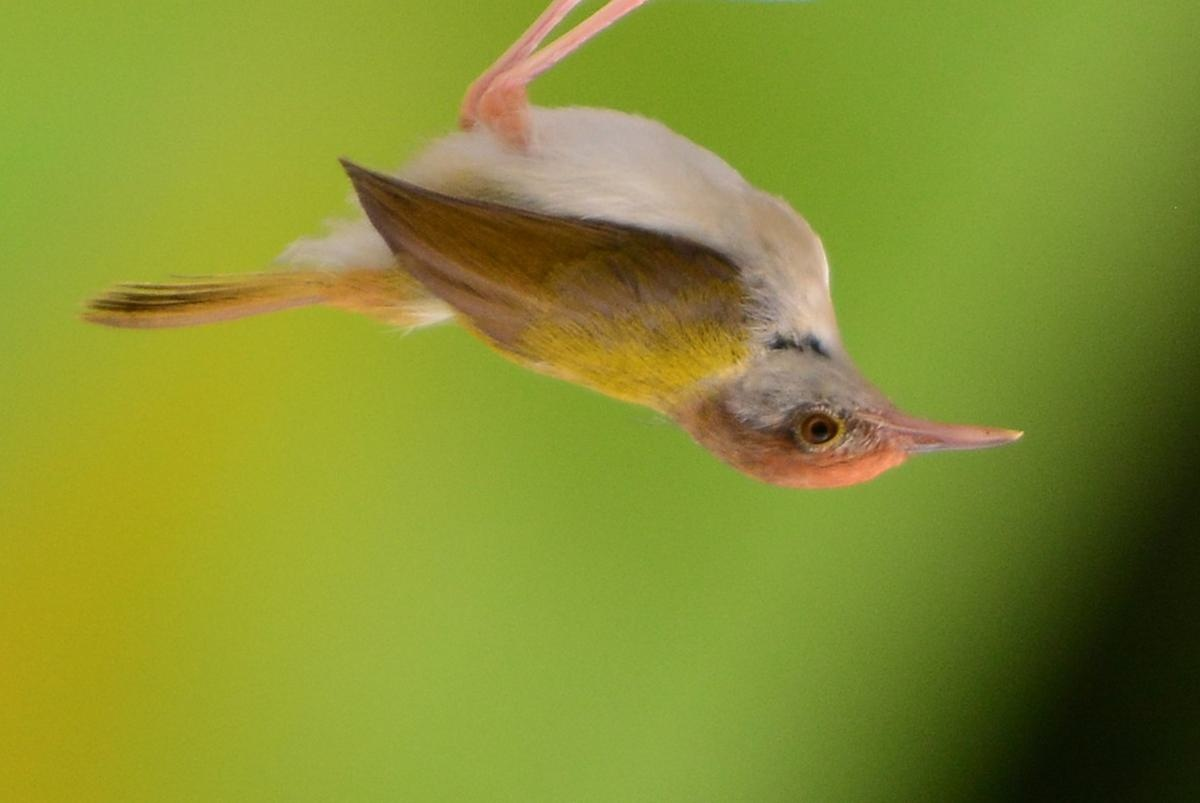tailorbird: (64, 88, 1049, 481)
